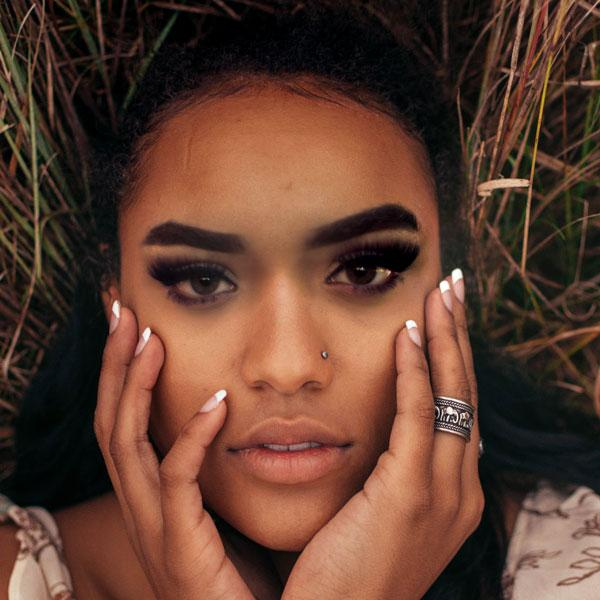Eyes: (316, 236, 418, 304), (146, 251, 252, 316)
